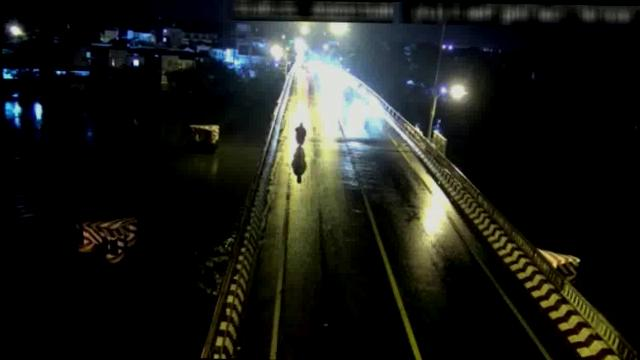Bike: (294, 120, 308, 145)
